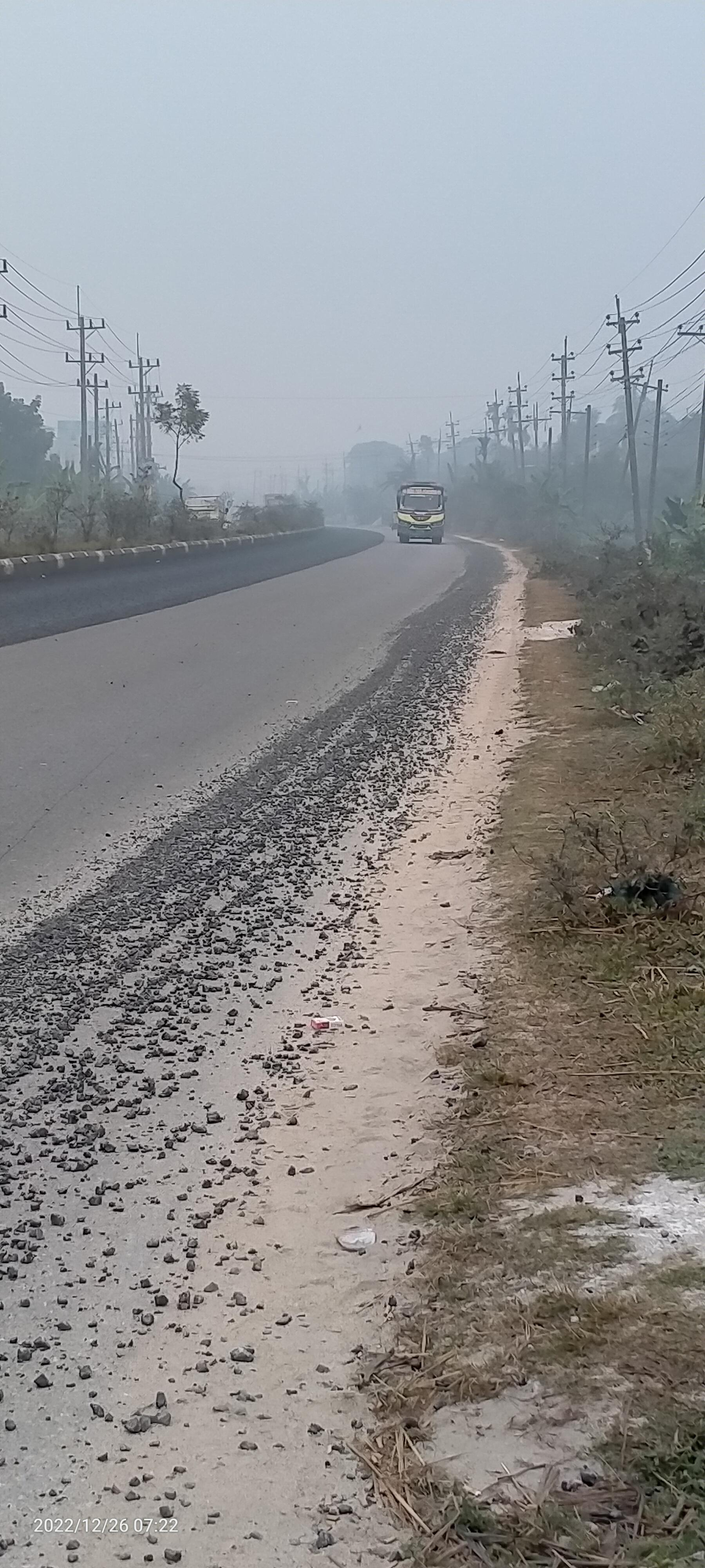Bus: (387, 478, 458, 562)
